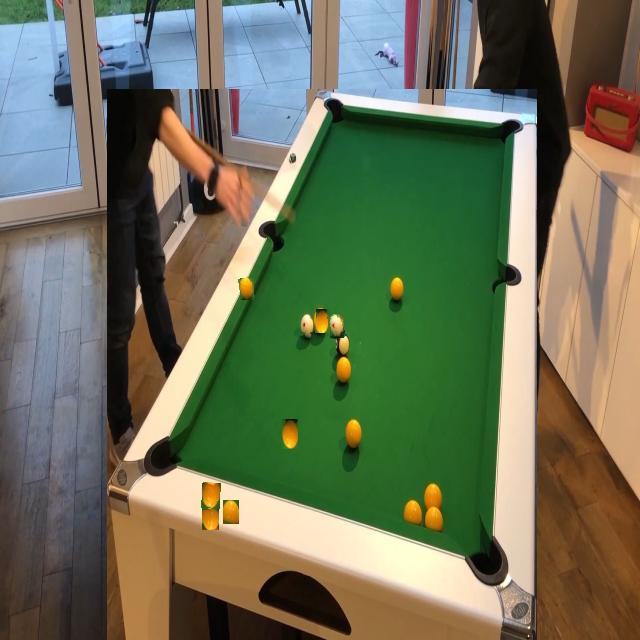Ball: (282, 419, 298, 449), (202, 483, 220, 509), (292, 357, 309, 384), (202, 507, 219, 530), (223, 500, 239, 524), (329, 314, 345, 338), (294, 332, 310, 356), (239, 278, 255, 300), (316, 309, 330, 333)
Billiard table: (107, 89, 537, 640)
